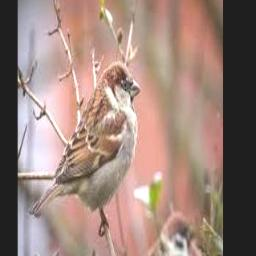Sparrow: (30, 61, 140, 233)
